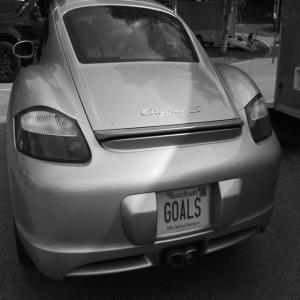Plate: (157, 185, 209, 234)
